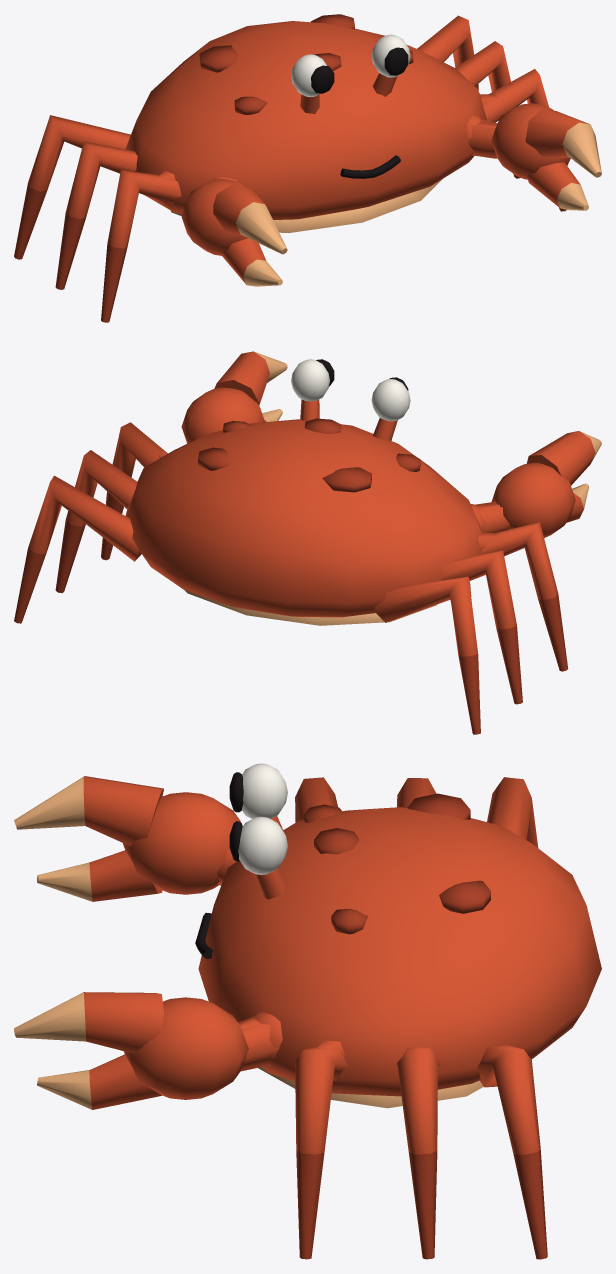
File: crab.glb
The picture shows the model from 3 angles, top to bottom: view 1: azimuth 30°, elevation 25°; view 2: azimuth 150°, elevation 25°; view 3: azimuth 270°, elevation 25°; orthographic projection. The views are drawn at different scales.
Parts seen in each view (by area): view 1: Body, ClawL, ClawR; view 2: Body, ClawR, ClawL; view 3: Body, ClawL, ClawR.
Part boxes in pixels (x1=…): Body: x1=14, y1=14, x2=566, y2=322; ClawL: x1=467, y1=103, x2=601, y2=210; ClawR: x1=181, y1=177, x2=287, y2=286; Body: x1=14, y1=359, x2=568, y2=734; ClawR: x1=471, y1=431, x2=601, y2=537; ClawL: x1=181, y1=351, x2=287, y2=443; Body: x1=195, y1=763, x2=601, y2=1259; ClawL: x1=14, y1=992, x2=282, y2=1109; ClawR: x1=14, y1=776, x2=240, y2=901.
Bounding box in the file's own units: 1.16 × 0.5513 × 0.9326.
